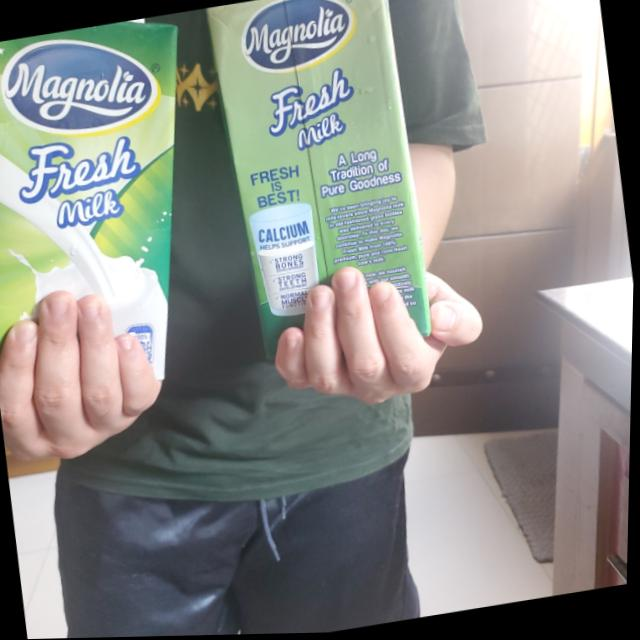milk: (199, 0, 444, 387), (0, 13, 231, 412)
